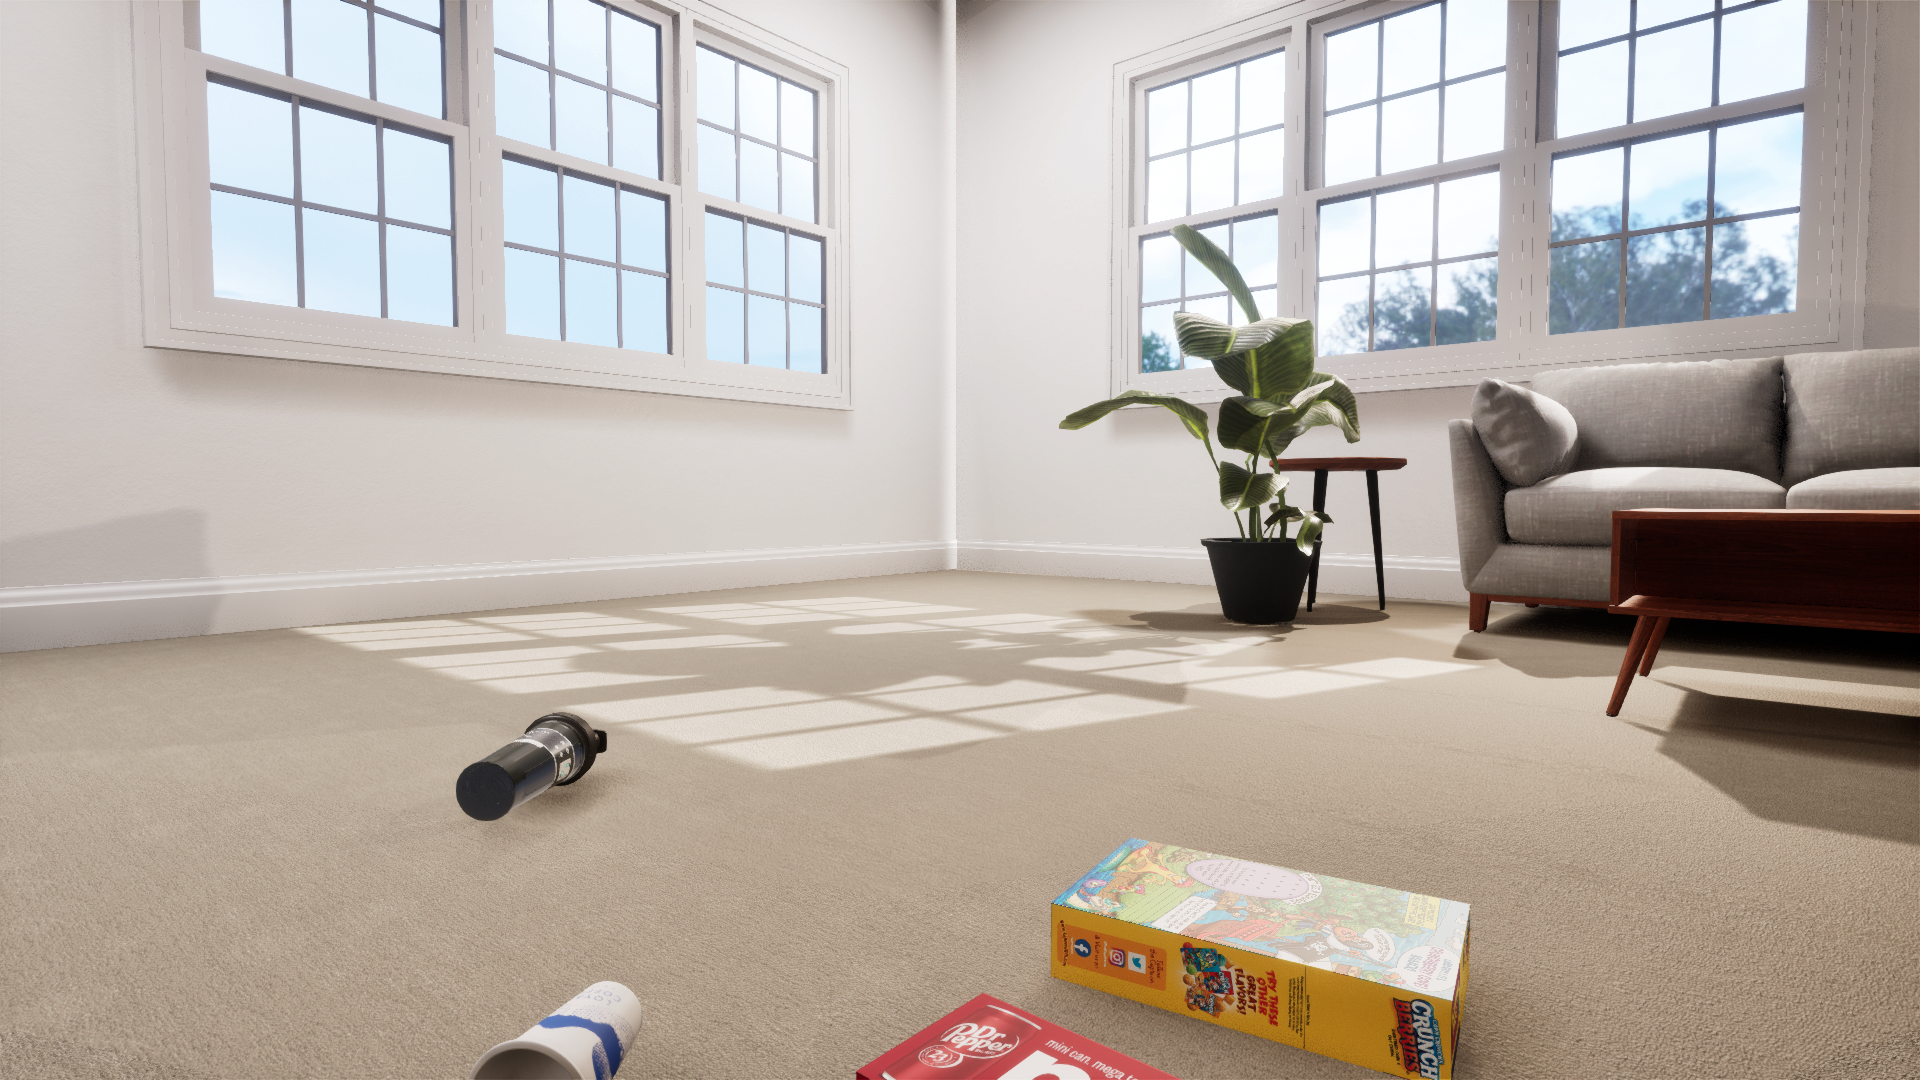cheerios: (957, 281, 1145, 475)
soup: (1203, 377, 1284, 483)
